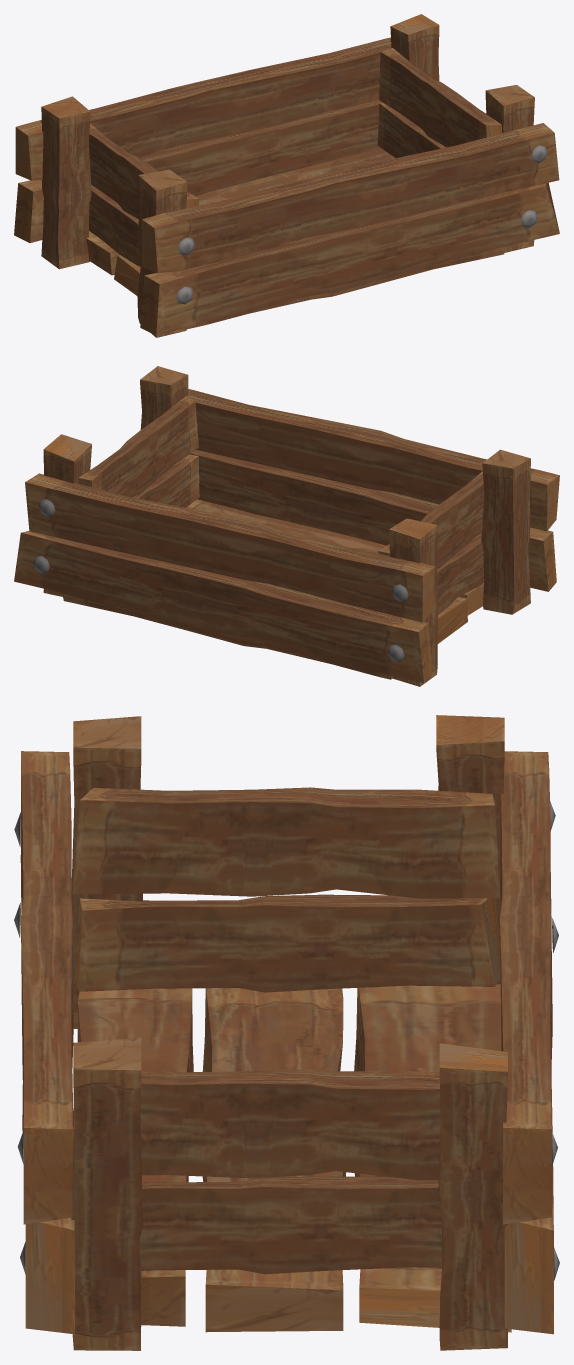
The model's file is SM_Farm_FoodContainer_04.fbx.
3 views of the same model, one above another, from view 1: azimuth 30°, elevation 25°; view 2: azimuth 150°, elevation 25°; view 3: azimuth 270°, elevation 25° (orthographic). The views are drawn at different scales.
Parts seen in each view (by area): view 1: SM_Farm_FoodContainer_04_LOD0; view 2: SM_Farm_FoodContainer_04_LOD0; view 3: SM_Farm_FoodContainer_04_LOD0.
Boxes of the visible parts, x1,y1,x2,y2 form: SM_Farm_FoodContainer_04_LOD0: (14, 14, 559, 337); SM_Farm_FoodContainer_04_LOD0: (14, 366, 559, 686); SM_Farm_FoodContainer_04_LOD0: (14, 715, 559, 1350).
Bounding box in the file's own units: 117 × 41.39 × 70.65.
